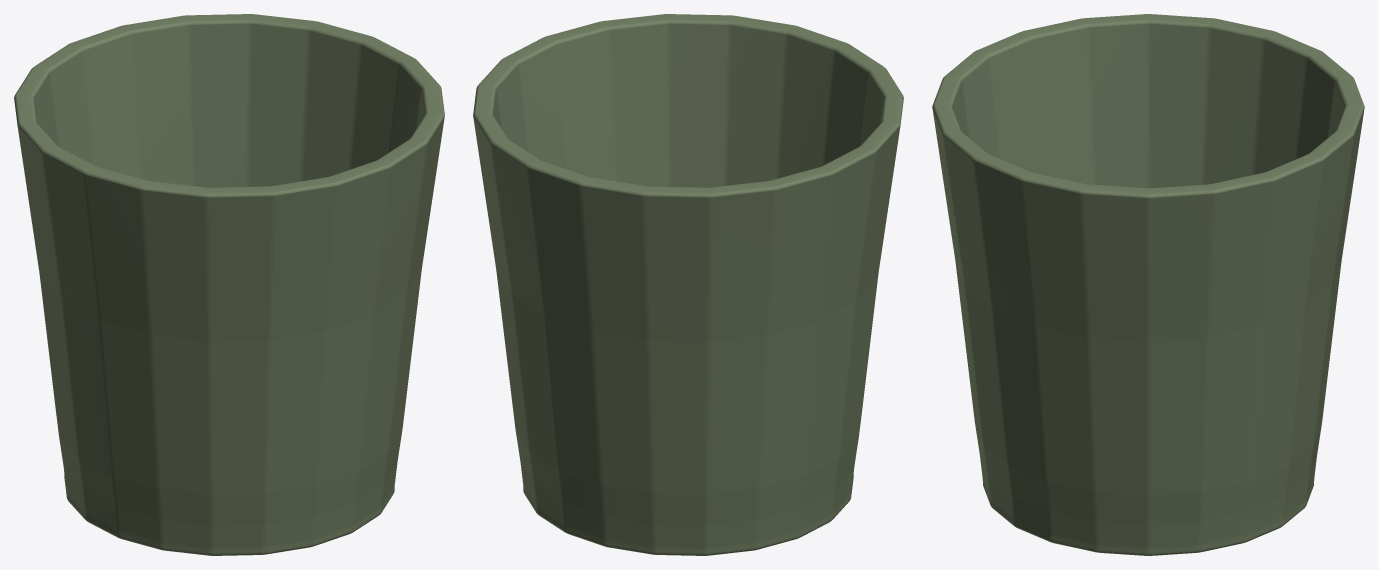
File: Trash.fbx
The picture shows the model from 3 angles, left to right: view 1: azimuth 30°, elevation 25°; view 2: azimuth 150°, elevation 25°; view 3: azimuth 270°, elevation 25°; orthographic projection.
Parts seen in each view (by area): view 1: Trash; view 2: Trash; view 3: Trash.
Part boxes in pixels (x1,y1,x2,y2): Trash: (14, 14, 444, 555); Trash: (473, 14, 903, 555); Trash: (932, 14, 1364, 555).
Bounding box in the file's own units: 0.8859 × 0.8666 × 0.8859.
